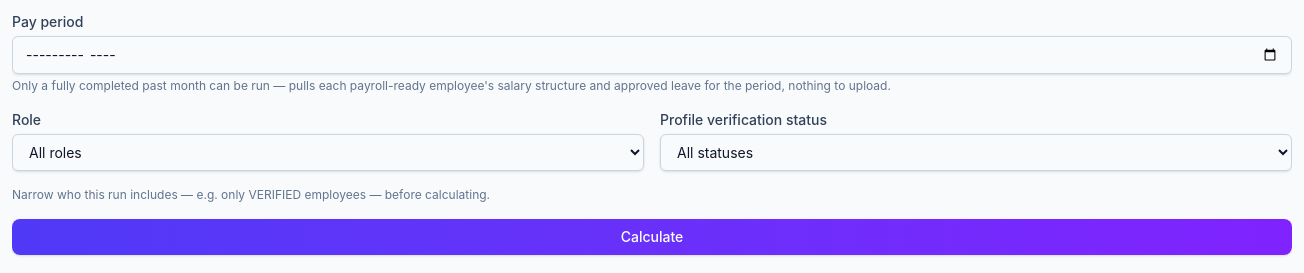
Test: PayrollRunForm › calculates payroll for the chosen period and shows a status per employee
Type "2026-03" into the field labelled "Pay period".
click(652, 55); type("2026-03")  # box [12,36,1292,74]
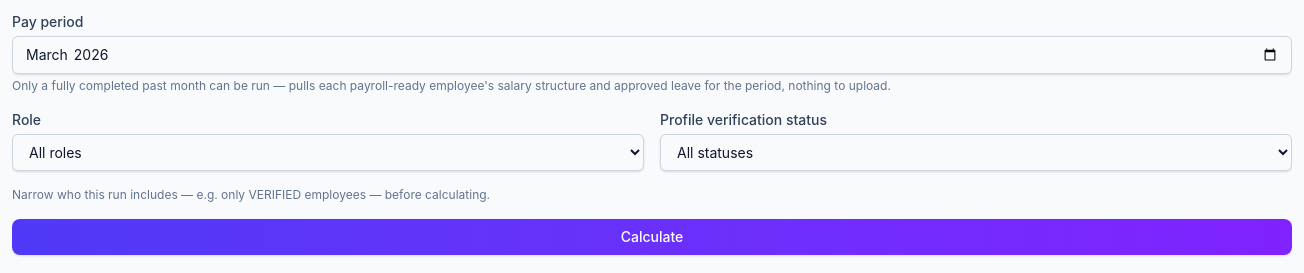
Click the button "Calculate".
click(652, 237)  # box [12,219,1292,255]
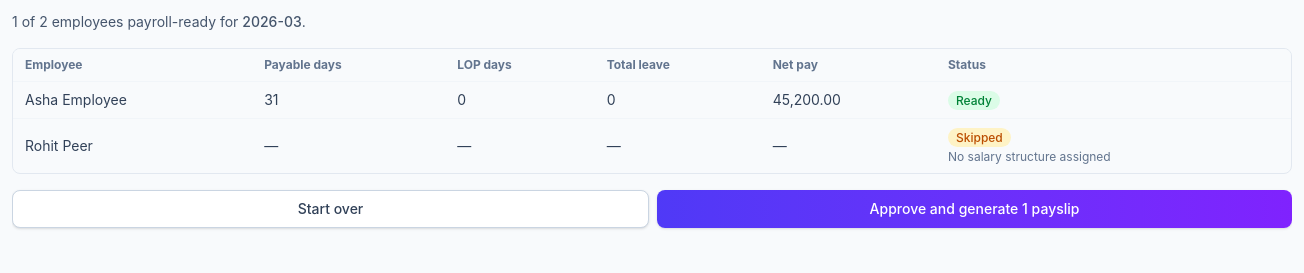
Check: the text "Asha Employee" is shown, box [13,82,252,118]
Check: the text "No salary structure assigned" is shown, box [948,149,1111,164]
Check: the button "Approve and generate 1 payslip" is shown, box [657,190,1292,228]
